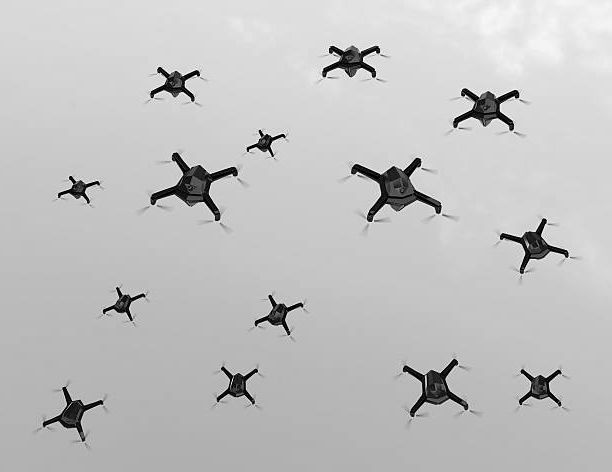Drone: (138, 148, 249, 231), (336, 158, 460, 227), (390, 352, 486, 428), (488, 211, 582, 285), (33, 376, 111, 453), (445, 84, 532, 139), (510, 361, 576, 423), (312, 42, 391, 90), (209, 357, 264, 416), (143, 62, 210, 107), (245, 292, 305, 340), (96, 281, 147, 326), (240, 122, 290, 164), (50, 173, 106, 208)
